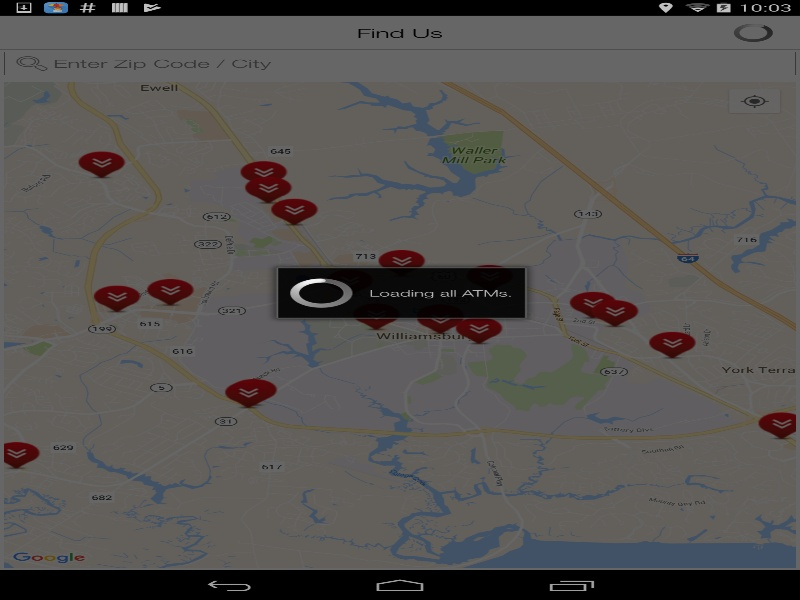Input: (10, 52, 792, 74)
